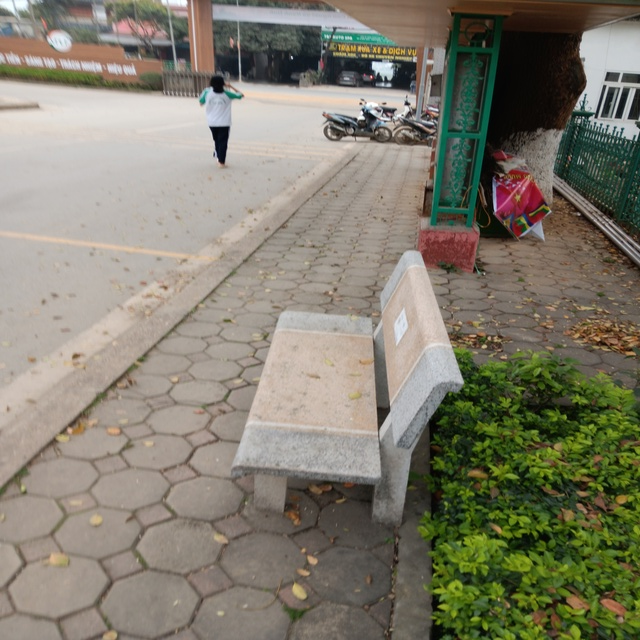gheda: (237, 254, 467, 529)
